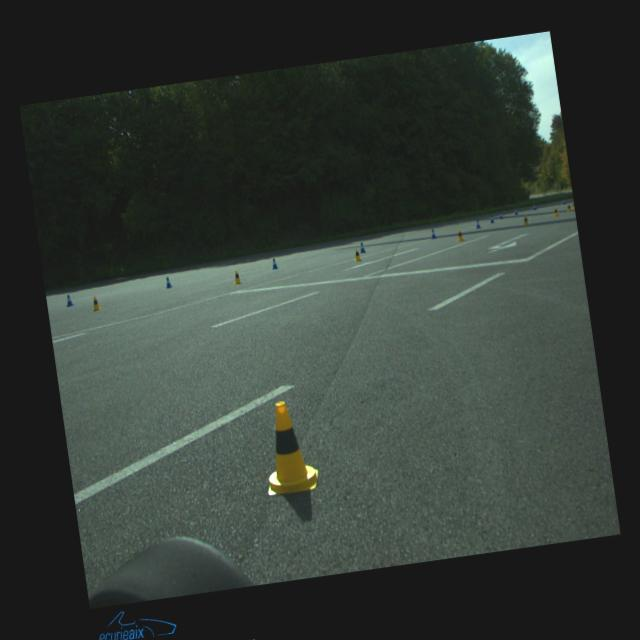blue_cone: (165, 276, 173, 288), (66, 294, 74, 306), (271, 258, 278, 270), (359, 242, 366, 253), (430, 229, 437, 239), (488, 215, 494, 223), (475, 220, 481, 228), (499, 212, 503, 220), (514, 208, 518, 215), (562, 198, 566, 204), (534, 204, 536, 210)
yellow_cone: (257, 398, 321, 496), (92, 296, 102, 311), (353, 248, 362, 262), (233, 270, 242, 284), (456, 228, 464, 242), (522, 216, 530, 227), (552, 206, 560, 216), (566, 202, 572, 212), (572, 201, 575, 209)
